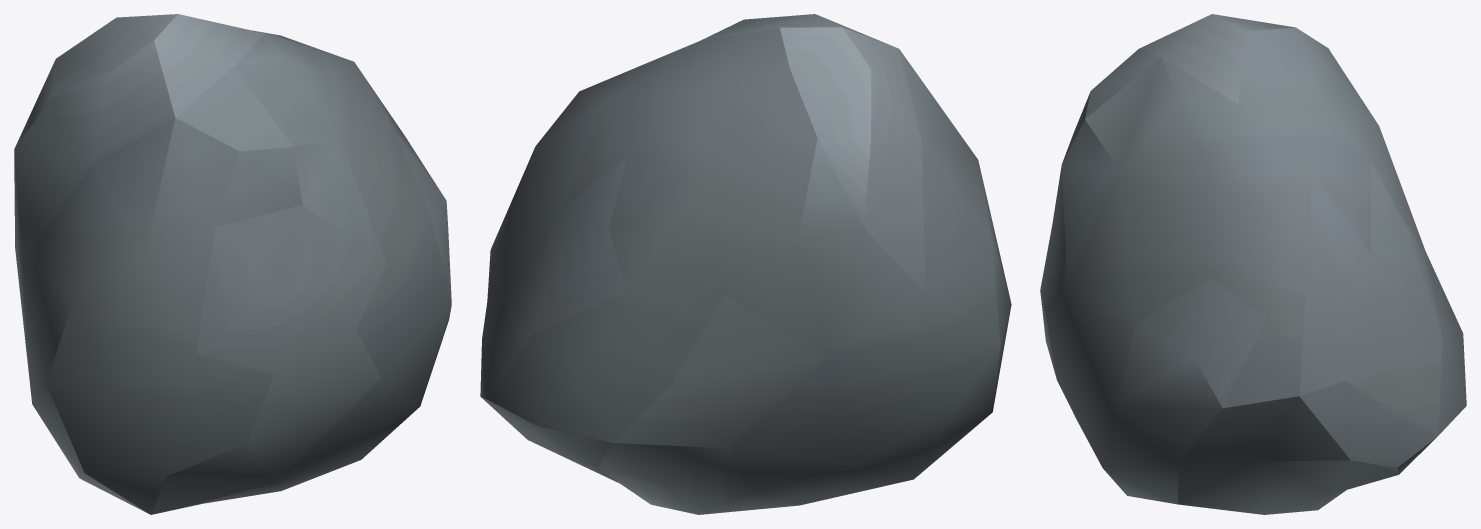
Rendered from Rock_3_H.glb.
3 renders of one model, left to right at view 1: azimuth 30°, elevation 25°; view 2: azimuth 150°, elevation 25°; view 3: azimuth 270°, elevation 25°, orthographic. The views are drawn at different scales.
Visible parts, largest first — view 1: Rock_3_H_Color1; view 2: Rock_3_H_Color1; view 3: Rock_3_H_Color1.
Boxes of the visible parts, x1,y1,x2,y2 form: Rock_3_H_Color1: (14, 14, 451, 514); Rock_3_H_Color1: (480, 14, 1011, 514); Rock_3_H_Color1: (1040, 14, 1466, 514).
Size of the model in its own units: 1.95 by 2.06 by 1.76.
Materials: 1 (1 with a texture image).
